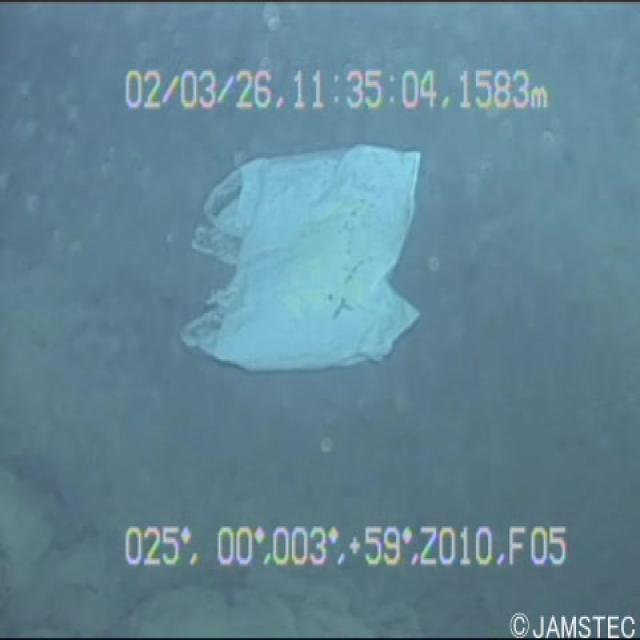plastic: (173, 135, 447, 382)
